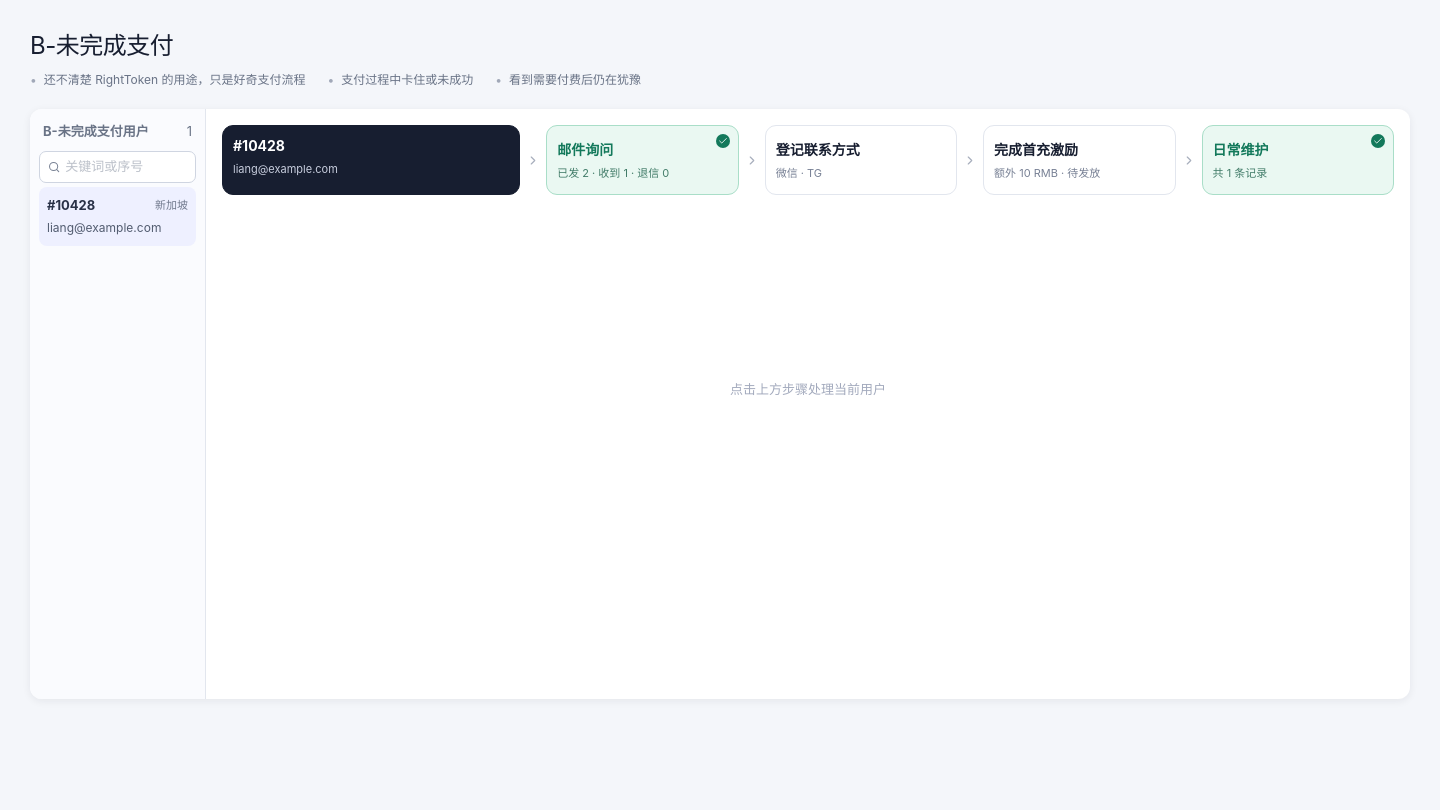
Scenario: BGroupWorkspace › shows the first-deposit incentive copy
Click the button "完成首充激励 额外 10 RMB · 待发放": (1079, 160) [983,125,1176,195]
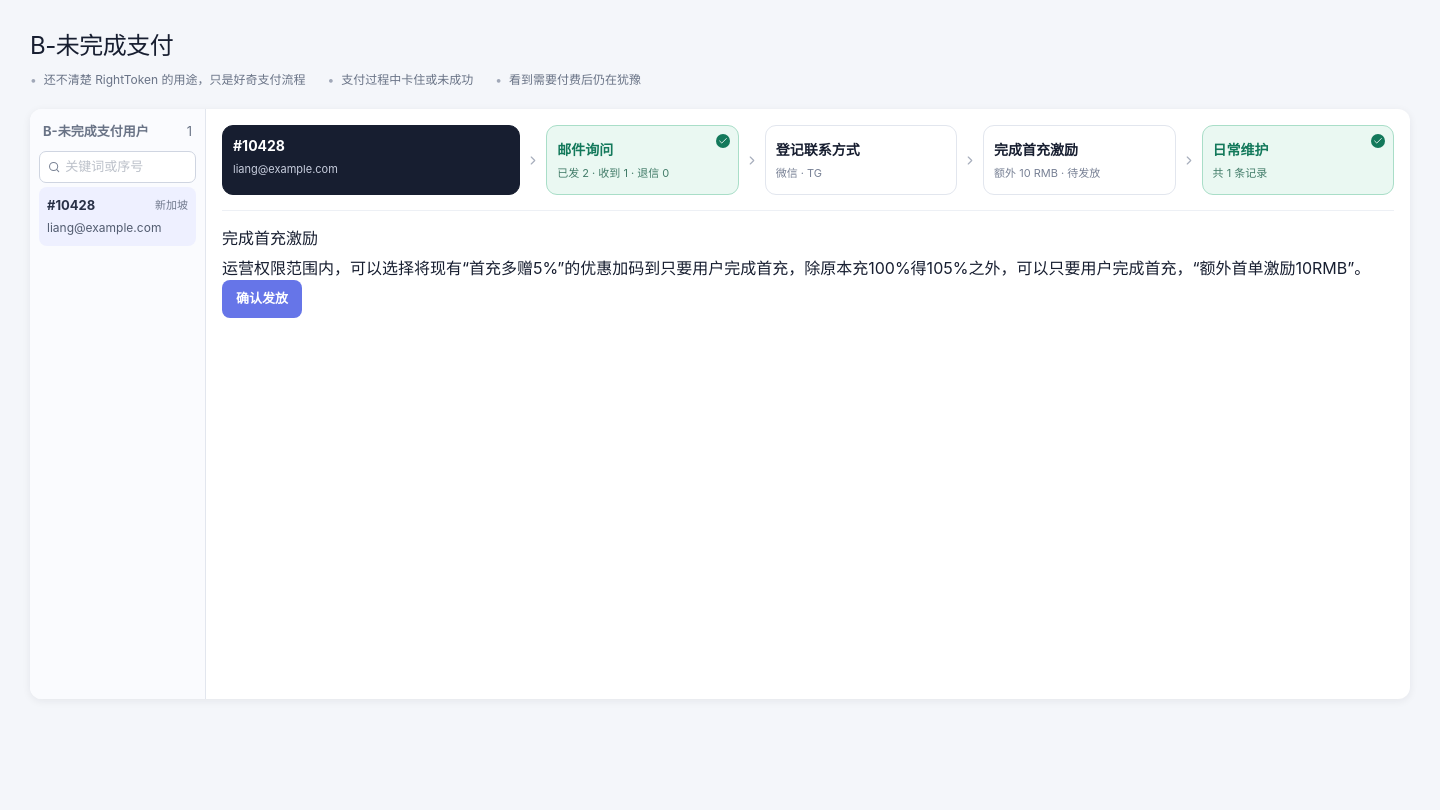
Check: the heading "完成首充激励" is shown, box [222,228,318,248]
Check: the text "额外首单激励10RMB" is shown, box [222,258,1370,278]
